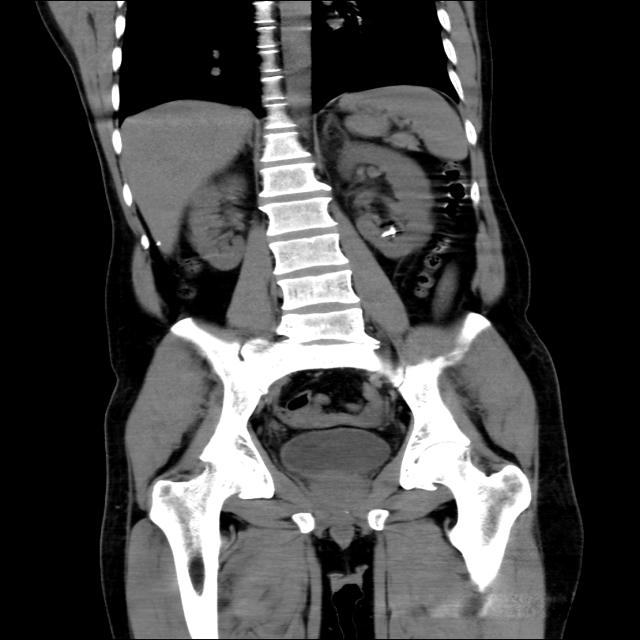kidneystone: (381, 225, 398, 238)
